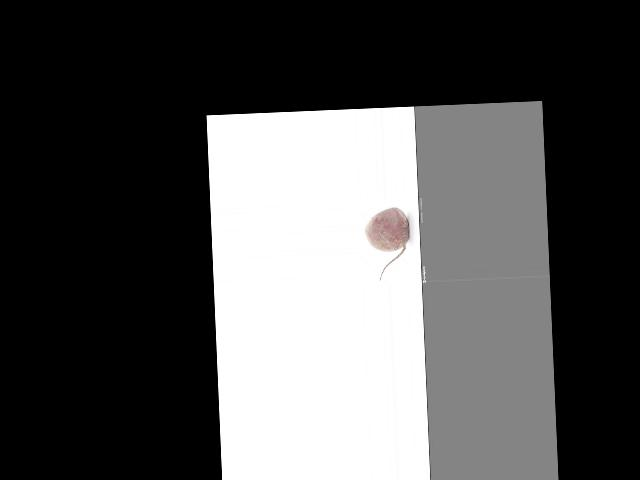beet: (364, 206, 411, 281)
